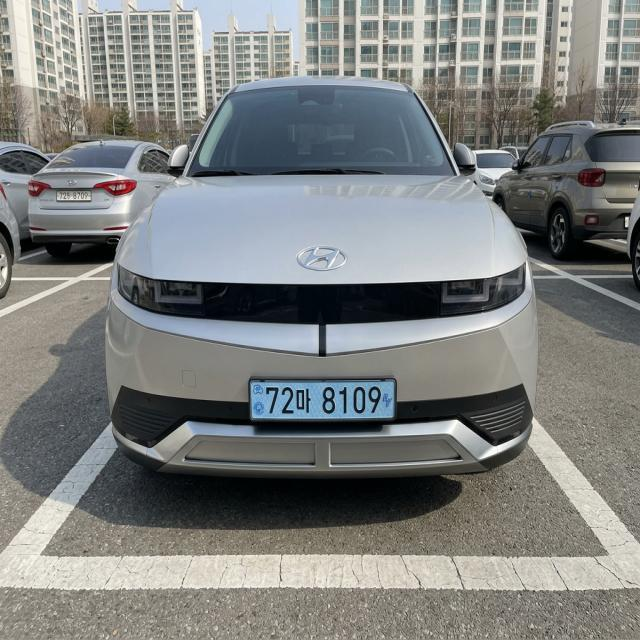car: (217, 368, 427, 438)
carev: (379, 379, 400, 425), (250, 378, 267, 428)
